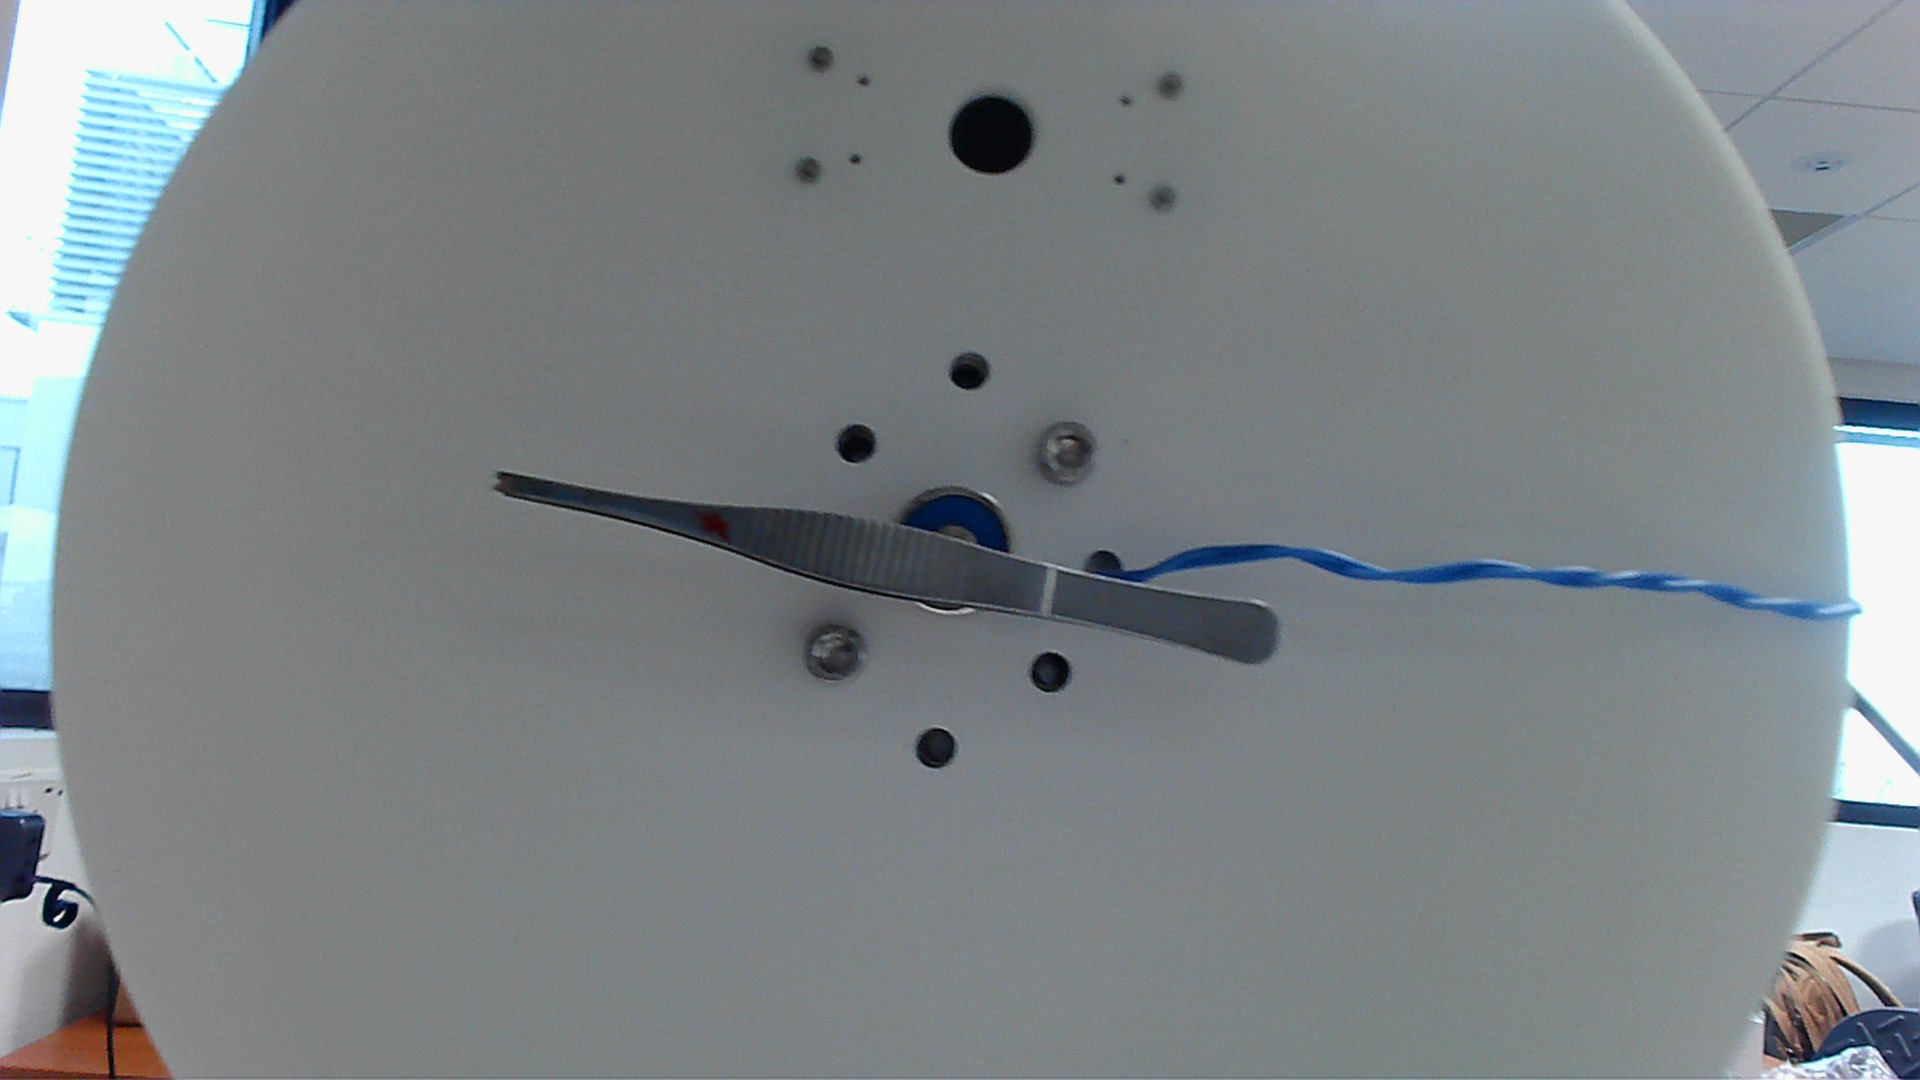Stain: (687, 501, 738, 550)
